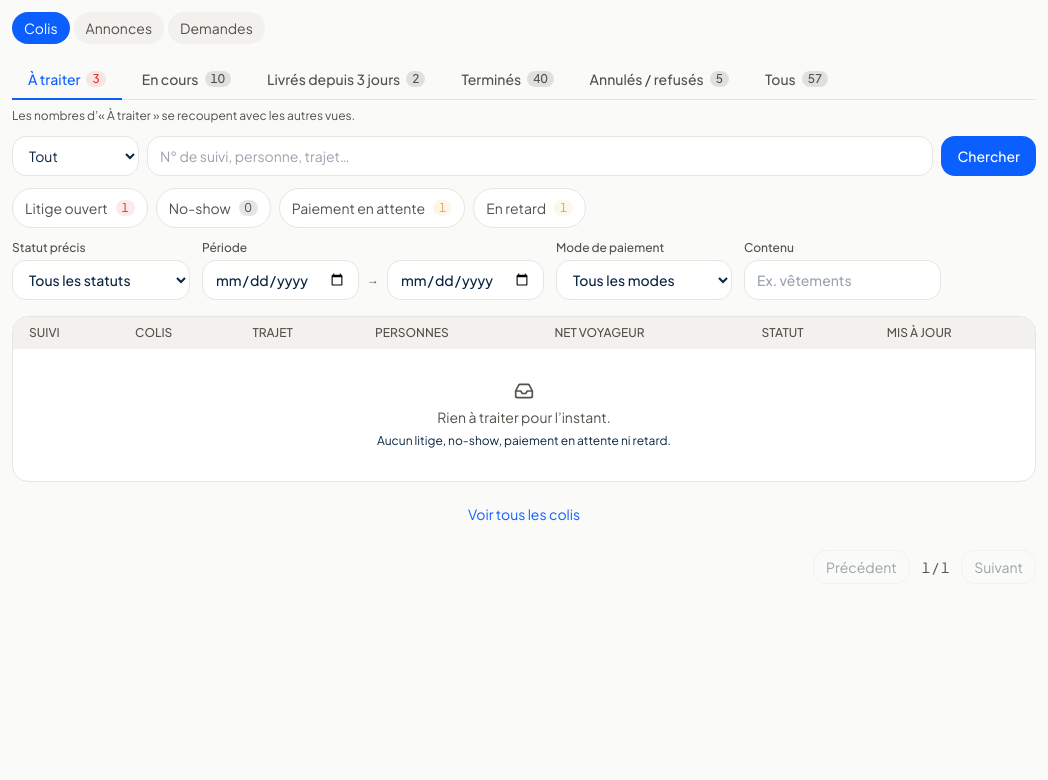
Scenario: /colis : vues rapides et recherche › emptyTodo_showsNothingToDo
Expected: the element with test id "state-empty" shows "Rien à traiter pour l’instant.", [437, 408, 611, 426]
Click the button with test id "todo-show-all": point(524, 514) [456, 494, 592, 534]
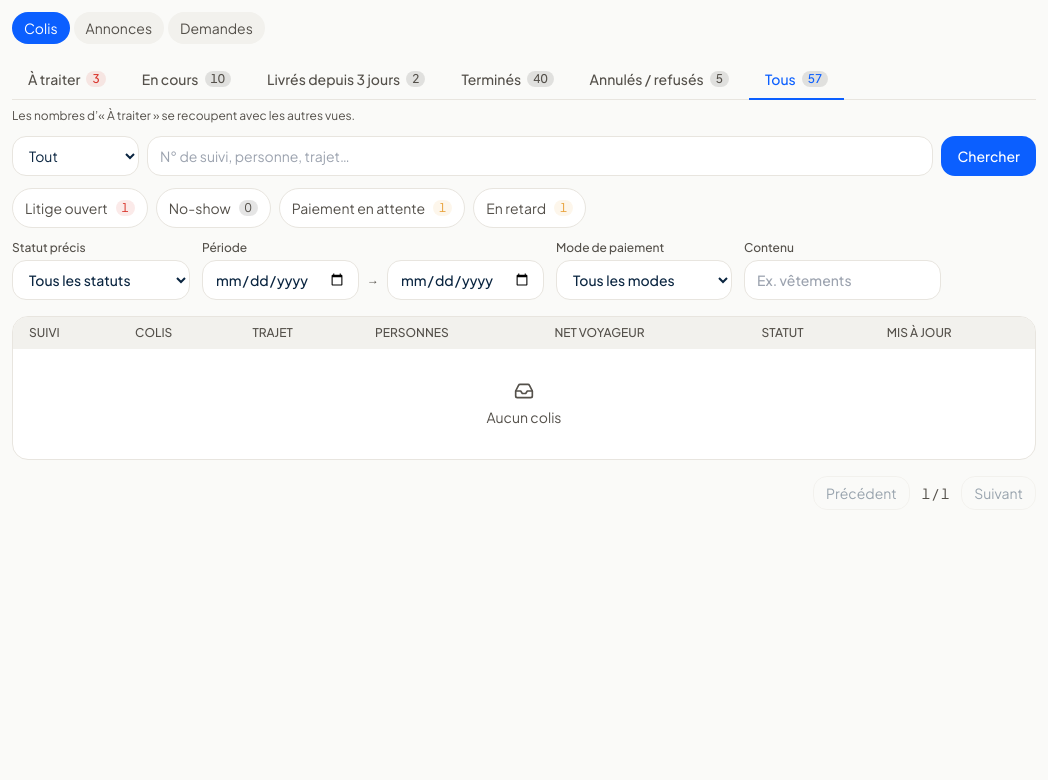
Result: the element with test id "state-empty" reads "Aucun colis" at [486, 408, 562, 426]
